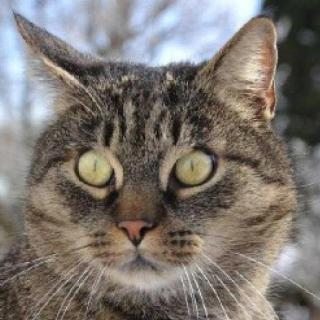cat: (9, 10, 294, 295)
nose: (113, 210, 157, 252)
